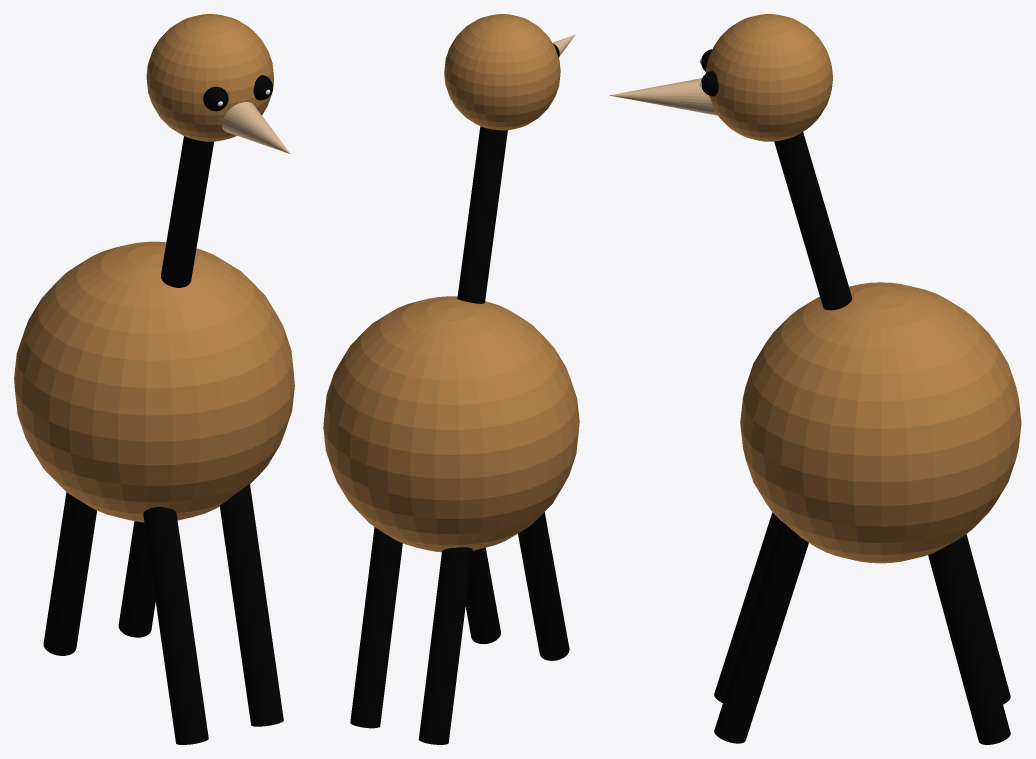
File: doduo.fbx
The picture shows the model from 3 angles, left to right: view 1: azimuth 30°, elevation 25°; view 2: azimuth 150°, elevation 25°; view 3: azimuth 270°, elevation 25°; orthographic projection. The views are drawn at different scales.
Parts seen in each view (by area): view 1: Sphere, Sphere.001, Cylinder.001, Cylinder.002, Cylinder.004, Cylinder, Cylinder.003, Cone, Sphere.002; view 2: Sphere, Sphere.001, Cylinder.004, Cylinder.003, Cylinder, Cylinder.001, Cylinder.002; view 3: Sphere, Sphere.001, Cylinder.002, Cylinder.003, Cylinder, Cylinder.001, Cone, Cylinder.004.
Part boxes in pixels (x1,y1,x2,y2): Sphere: [14, 241, 294, 522]; Sphere.001: [146, 14, 273, 141]; Cylinder.001: [143, 507, 208, 744]; Cylinder.002: [219, 484, 283, 726]; Cylinder.004: [43, 492, 96, 655]; Cylinder: [161, 136, 213, 287]; Cylinder.003: [118, 521, 155, 637]; Cone: [222, 102, 289, 153]; Sphere.002: [203, 75, 272, 111]; Sphere: [323, 296, 579, 552]; Sphere.001: [444, 14, 560, 130]; Cylinder.004: [418, 547, 472, 744]; Cylinder.003: [350, 527, 402, 728]; Cylinder: [457, 126, 507, 303]; Cylinder.001: [518, 512, 569, 660]; Cylinder.002: [465, 547, 500, 644]; Sphere: [740, 282, 1021, 563]; Sphere.001: [705, 14, 832, 141]; Cylinder.002: [714, 521, 808, 743]; Cylinder.003: [928, 540, 1010, 744]; Cylinder: [774, 132, 852, 310]; Cylinder.001: [714, 512, 780, 702]; Cone: [609, 78, 717, 115]; Cylinder.004: [958, 534, 1010, 704].
Bounding box in the file's own units: 19.4 × 53.47 × 28.49.
